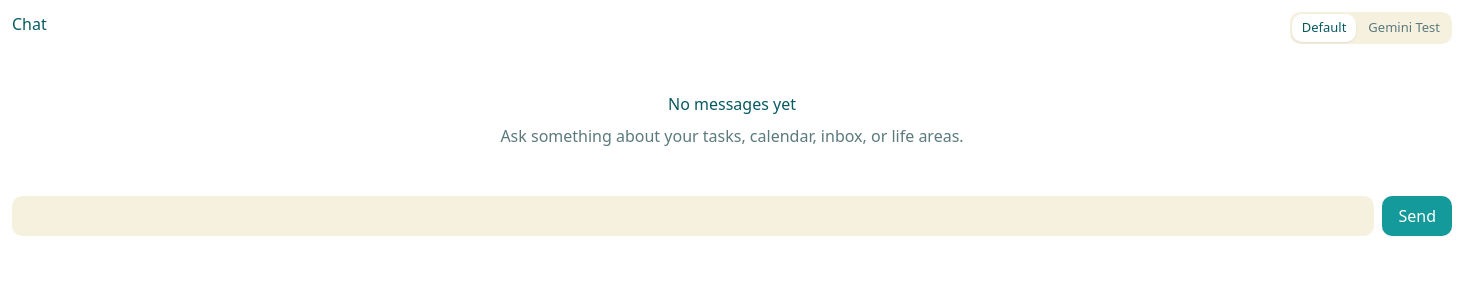
Scenario: ChatPage › shows an inline error when sending fails, without crashing
The width and height of the screenshot is (1464, 294).
Expected: the heading "No messages yet" is shown, left=668, top=92, right=796, bottom=116
In the field named "Chat message": [693, 216] box left=12, top=196, right=1374, bottom=236, type "hi"
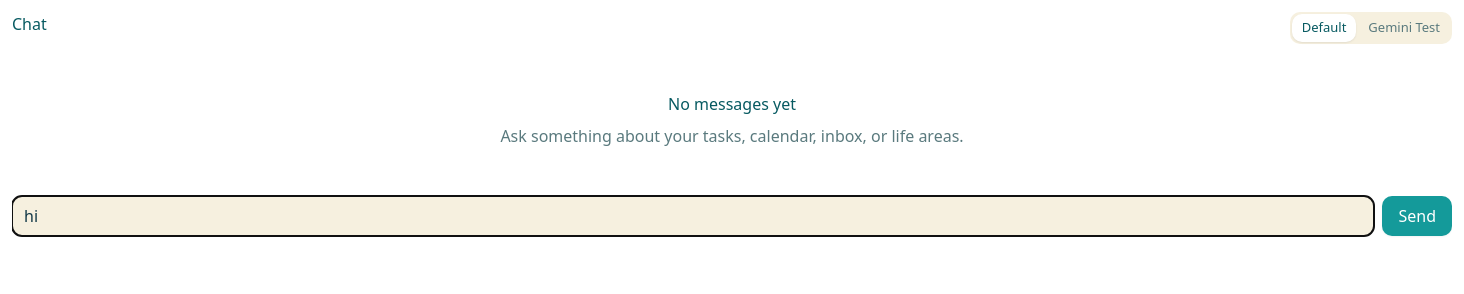
Click the button "Send": [1417, 216] box left=1382, top=196, right=1452, bottom=236
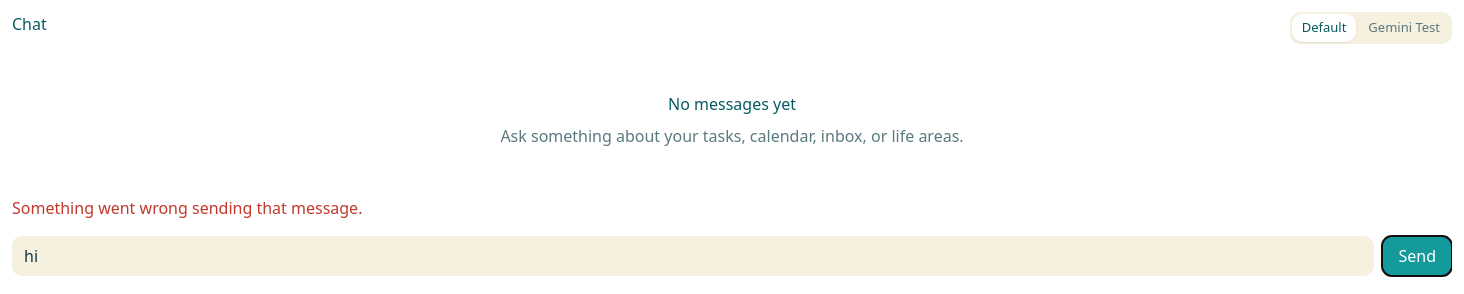
Now the message reads "Something went wrong sending that message.", box left=12, top=196, right=362, bottom=218
